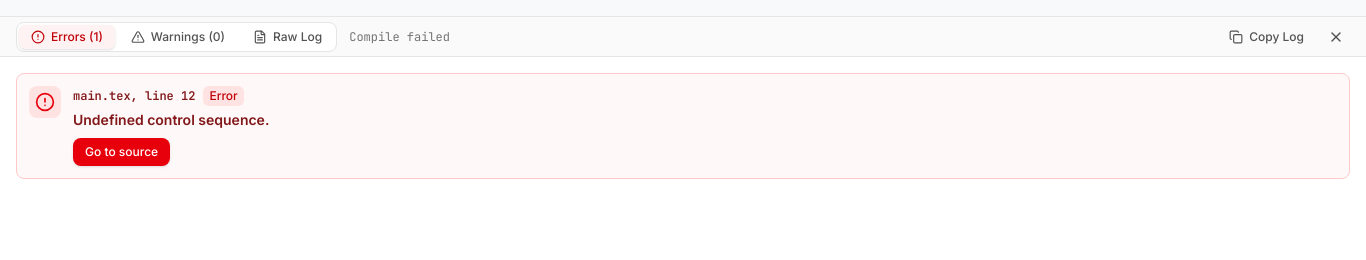
it: empty states › distinguishes no-warnings from no-errors at all
The width and height of the screenshot is (1366, 260).
Click the tab "Warnings (0)" at [178, 37], box [119, 25, 237, 49]
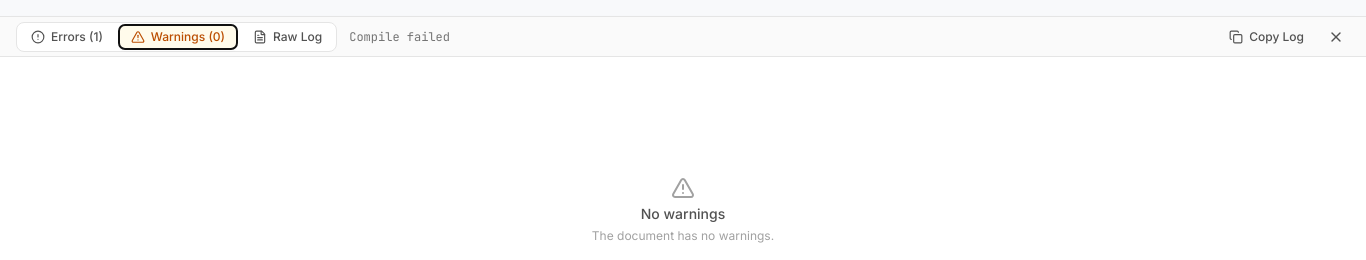
Check: the text "No warnings" is shown, box [641, 204, 725, 224]
